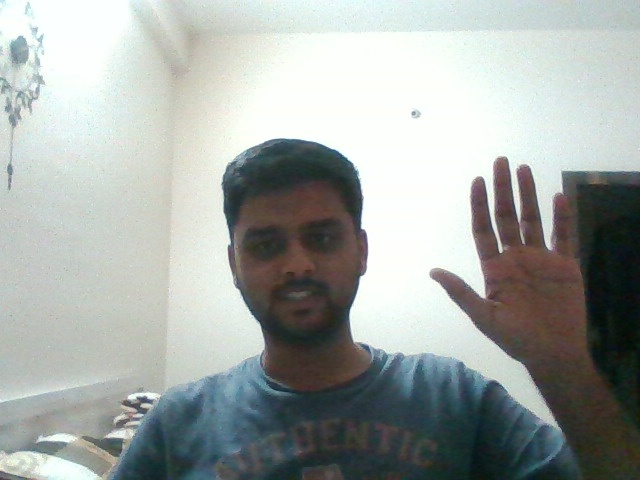hello: (401, 155, 616, 371)
